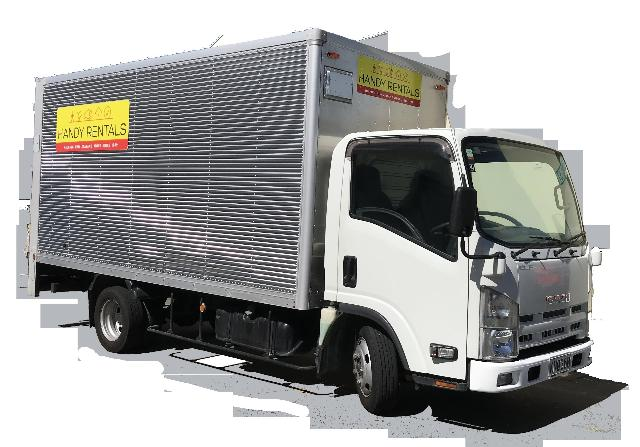truck: (47, 48, 624, 438)
